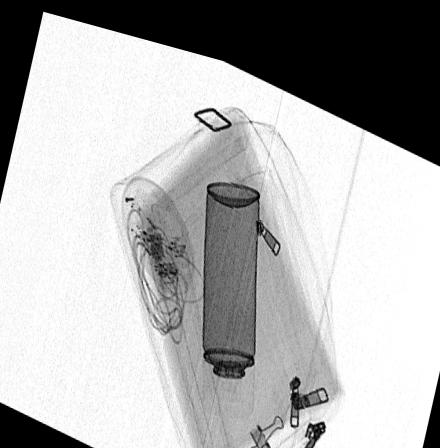Sprayer: (197, 168, 258, 405)
